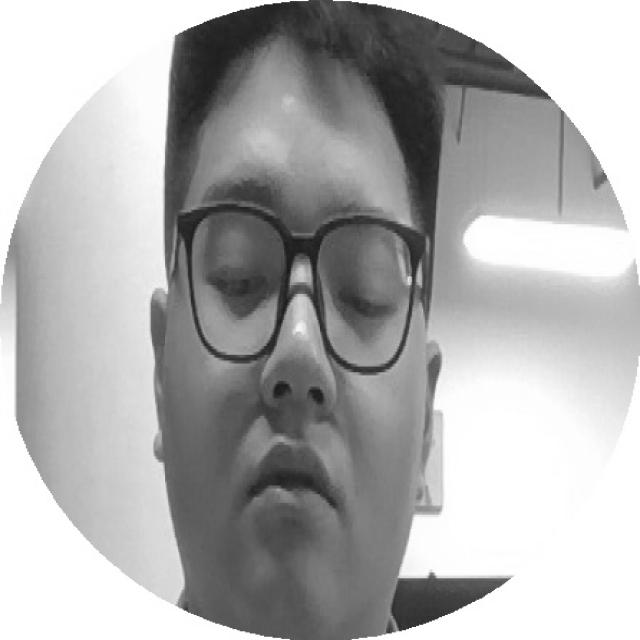real: (167, 63, 430, 631), (161, 232, 425, 332)
